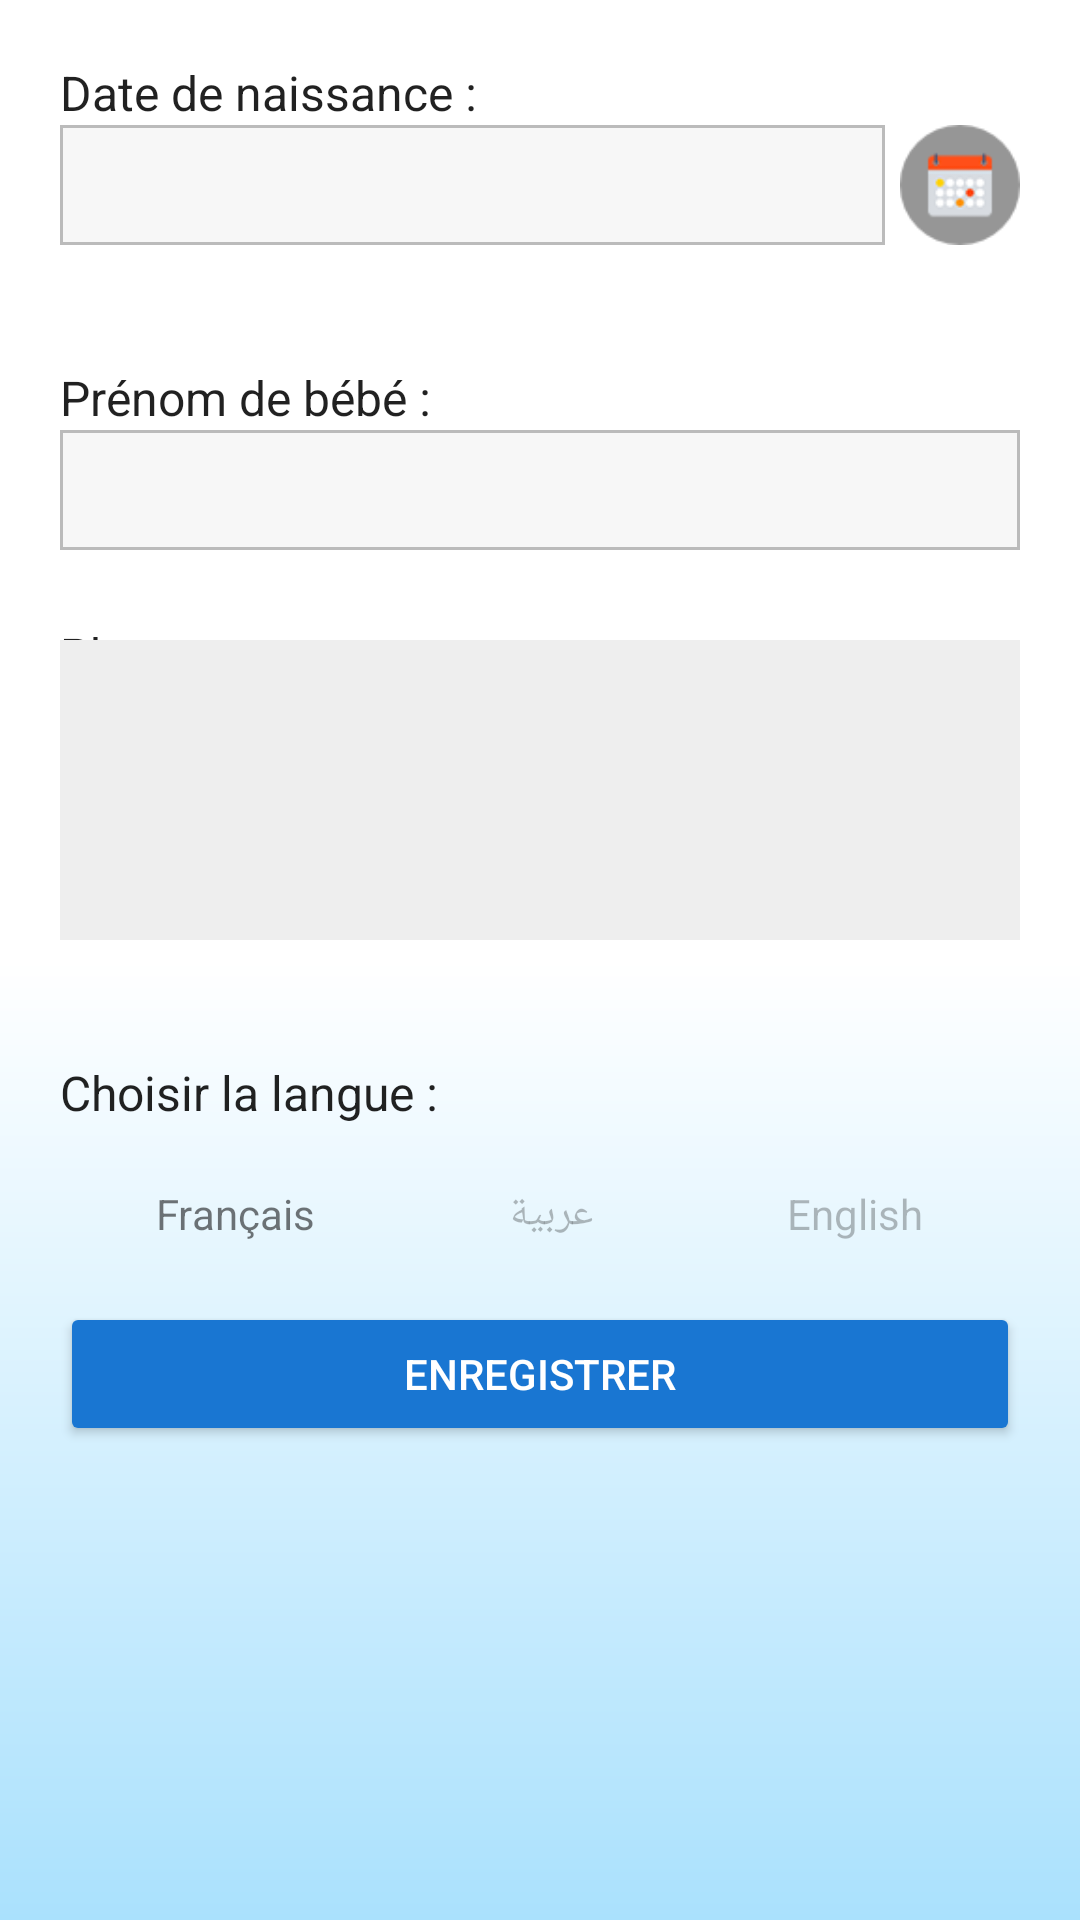

Named icons in this screenshot (1080 x 1920) and their bounding boxes, Rect(x1, y1, x2, y2):
calendar: Rect(900, 125, 1020, 245)
